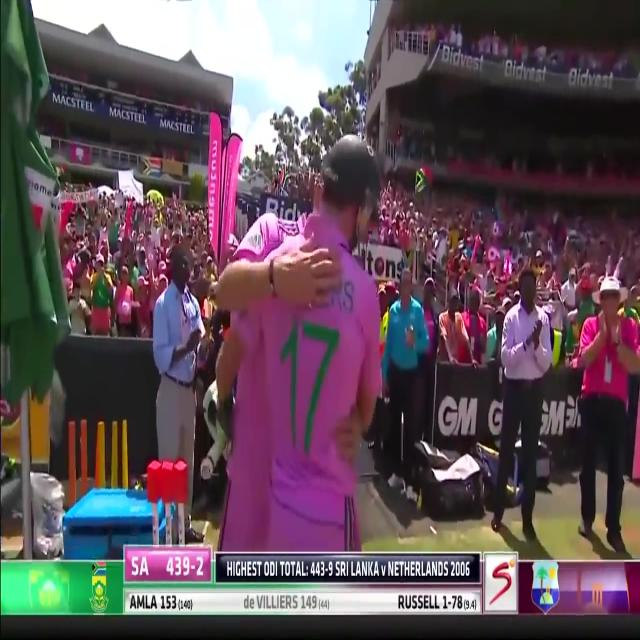Ball: (205, 117, 395, 553)
